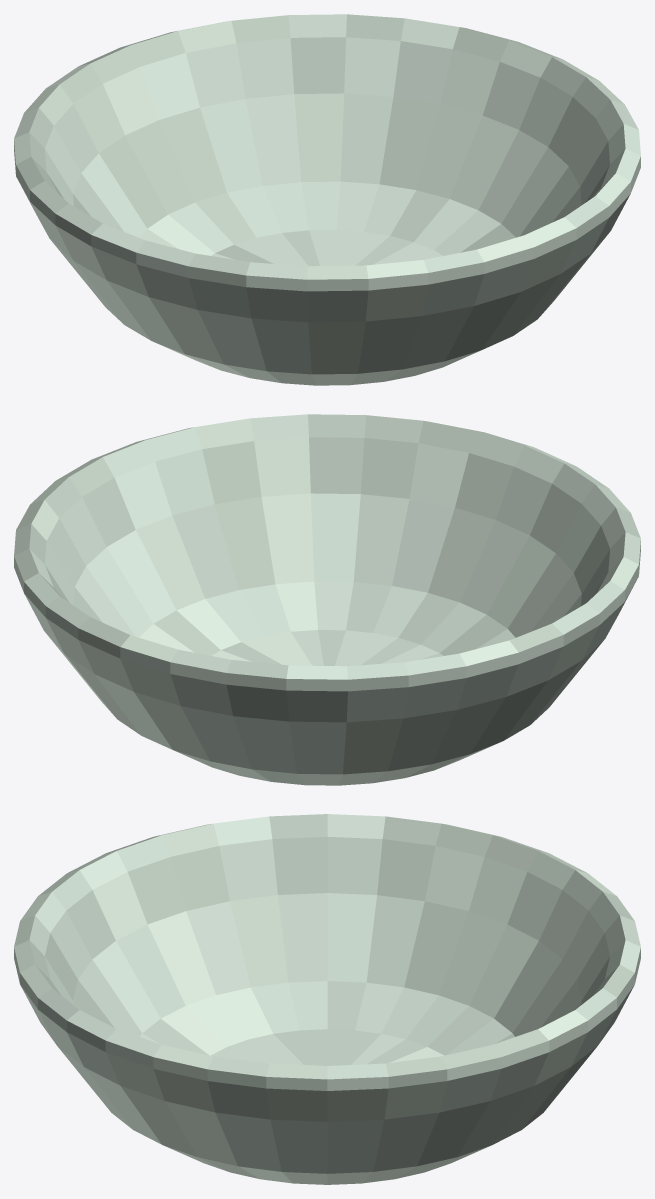
File: ED_08_Deep_Serving_Bowl.fbx
3 renders of one model, top to bottom at view 1: azimuth 30°, elevation 25°; view 2: azimuth 150°, elevation 25°; view 3: azimuth 270°, elevation 25°, orthographic.
Parts seen in each view (by area): view 1: ED_08_Deep_Serving_Bowl; view 2: ED_08_Deep_Serving_Bowl; view 3: ED_08_Deep_Serving_Bowl.
Part boxes in pixels (box(x1,y1,x2,y2)): ED_08_Deep_Serving_Bowl: box(14, 14, 640, 385); ED_08_Deep_Serving_Bowl: box(14, 414, 640, 785); ED_08_Deep_Serving_Bowl: box(14, 814, 640, 1184).
Size of the model in its own units: 2.44 by 0.8 by 2.44.
1 material, 1 textured.
